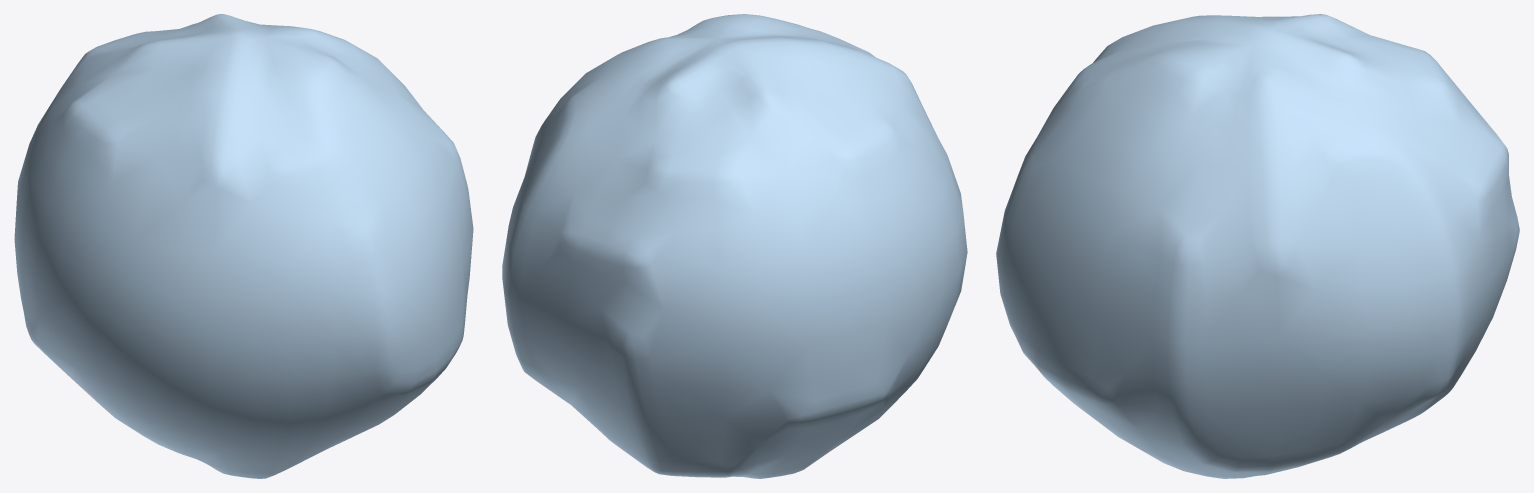
File: PROP_Ball_v1.glb
The picture shows the model from 3 angles, left to right: view 1: azimuth 30°, elevation 25°; view 2: azimuth 150°, elevation 25°; view 3: azimuth 270°, elevation 25°; orthographic projection. The views are drawn at different scales.
Parts seen in each view (by area): view 1: PROP_Ball_v1; view 2: PROP_Ball_v1; view 3: PROP_Ball_v1.
Boxes of the visible parts, <box> form: PROP_Ball_v1: <box>14,14,473,478</box>; PROP_Ball_v1: <box>502,14,967,478</box>; PROP_Ball_v1: <box>996,14,1519,478</box>.
Size of the model in its own units: 0.6725 by 0.6821 by 0.7597.
